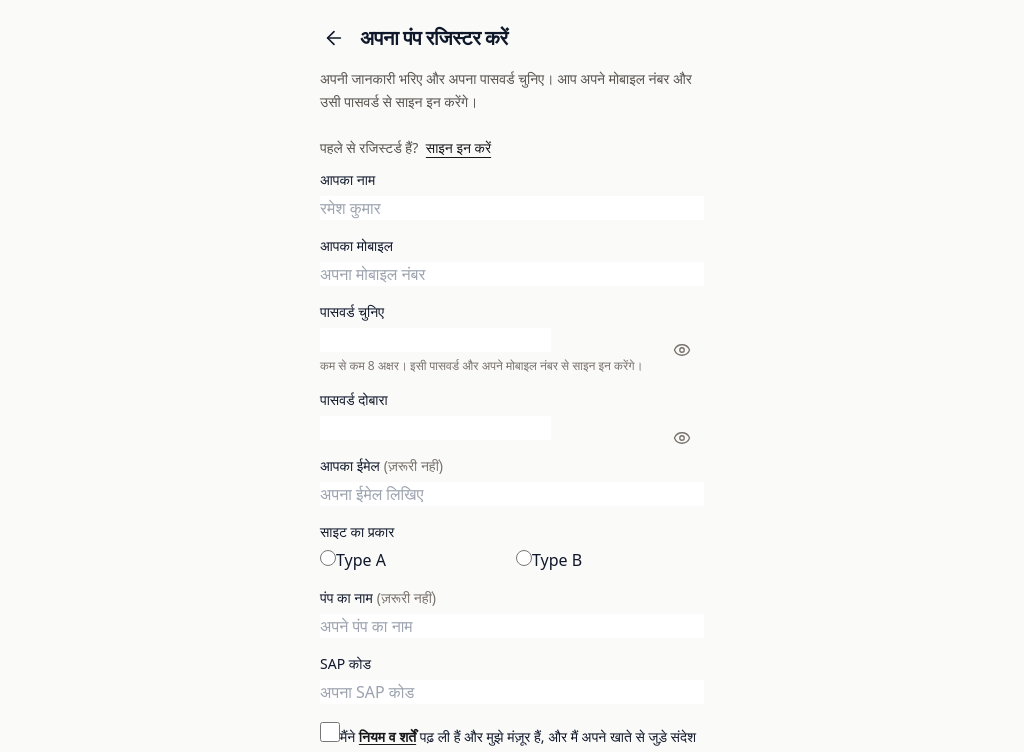
Test: RegisterPage › on the Hindi screen, says the English terms are binding and shows them on request
Click the button "नियम व शर्तें". click: [388, 737]
box: [359,726,416,748]
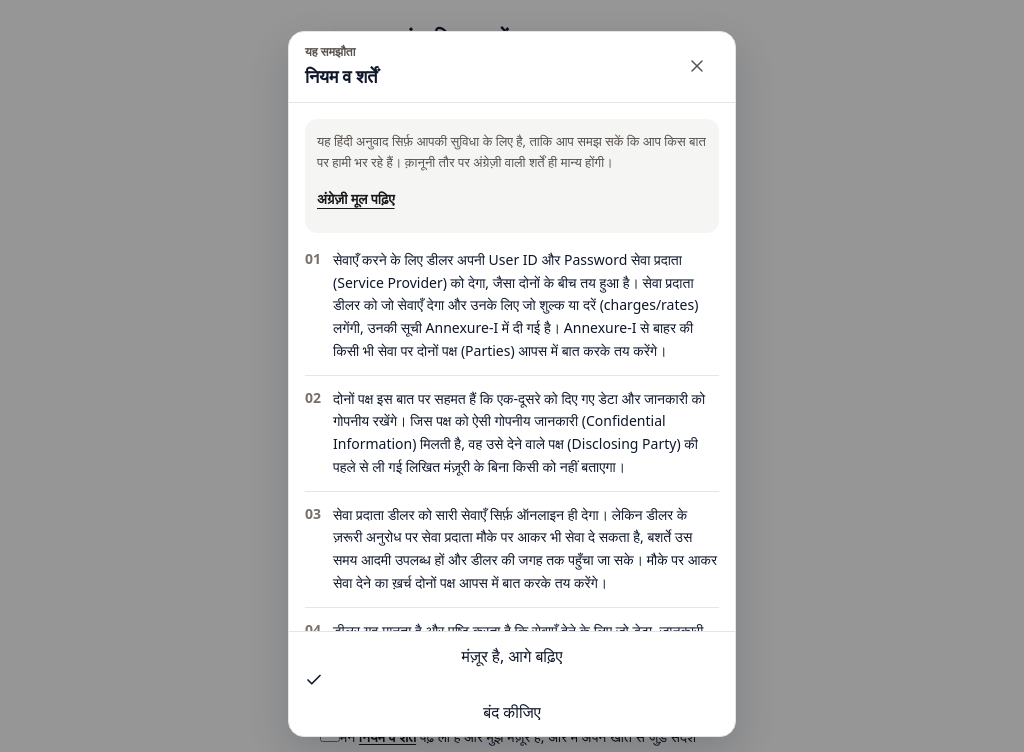
Expected: the text "सेवाएँ करने के लिए डीलर अपनी User ID और Password सेवा प्रदाता (Service Provider) को देगा, जैसा दोनों के बीच तय हुआ है। स" is shown, [333,250,698,360]
Expected: the text "अंग्रेज़ी वाली शर्तें ही मान्य होंगी" is shown, [317,132,706,171]
Click the button "अंग्रेज़ी मूल पढ़िए". click: [356, 199]
box: [317,177,394,221]
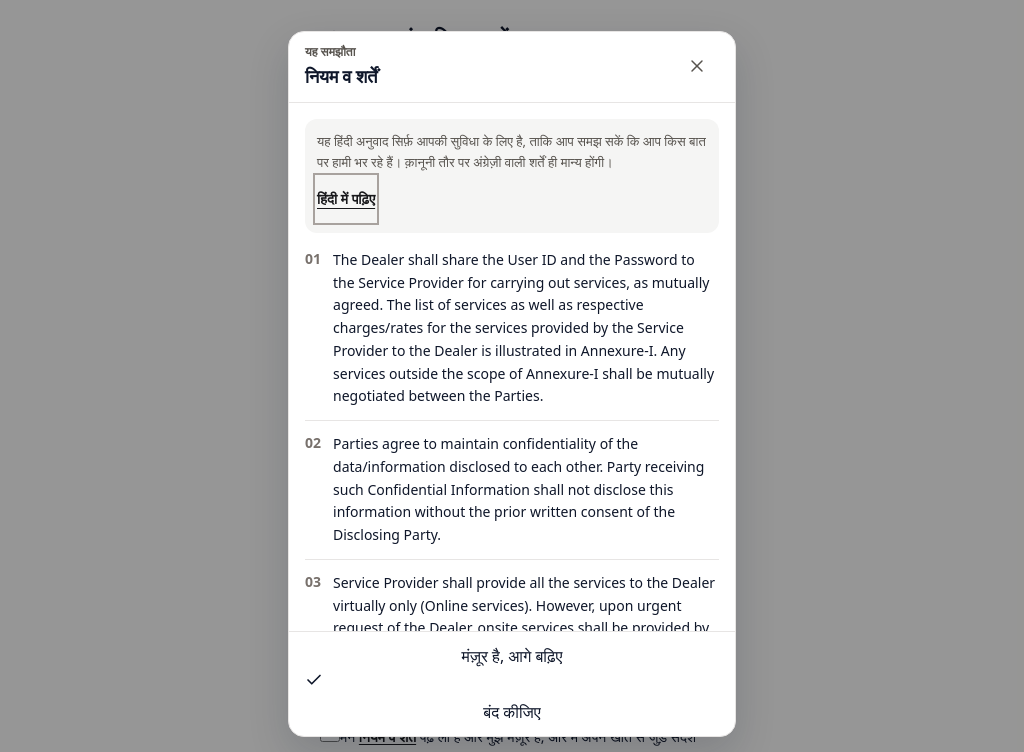
Expected: the text "The Dealer shall share the User ID and the Password to the Service Provider for carrying out services, as mutually agree" is shown, [333,250,714,406]
Expected: the text "सेवाएँ करने के लिए डीलर अपनी User ID और Password सेवा प्रदाता (Service Provider) को देगा, जैसा दोनों के बीच तय हुआ है। स" is gone
